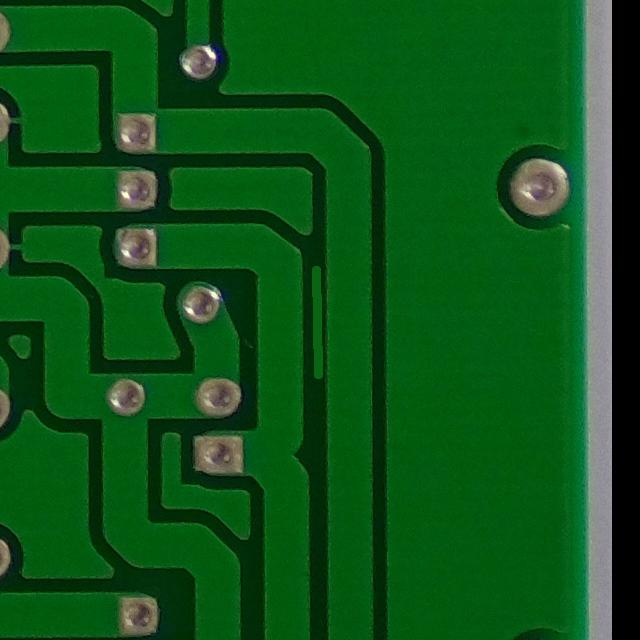spurious_copper: (303, 252, 338, 388)
